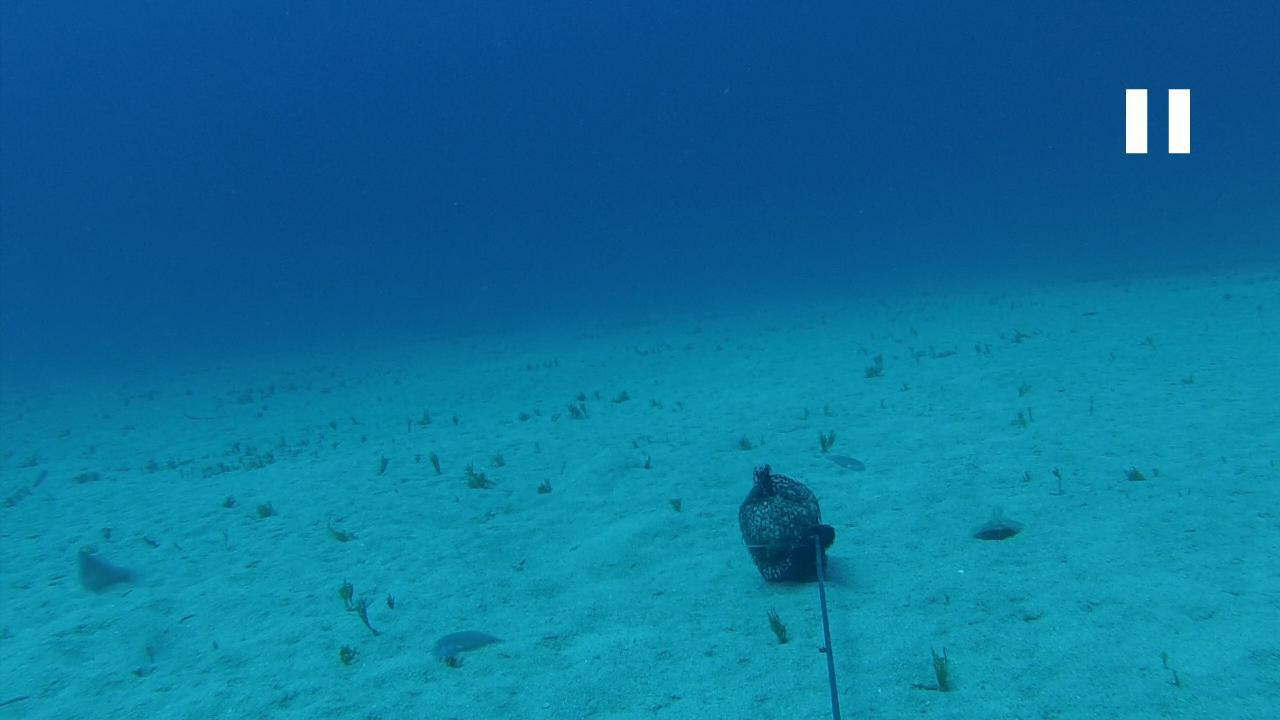bothus: (968, 504, 1026, 544)
raor: (429, 622, 508, 661), (76, 544, 133, 592), (822, 453, 868, 474)
